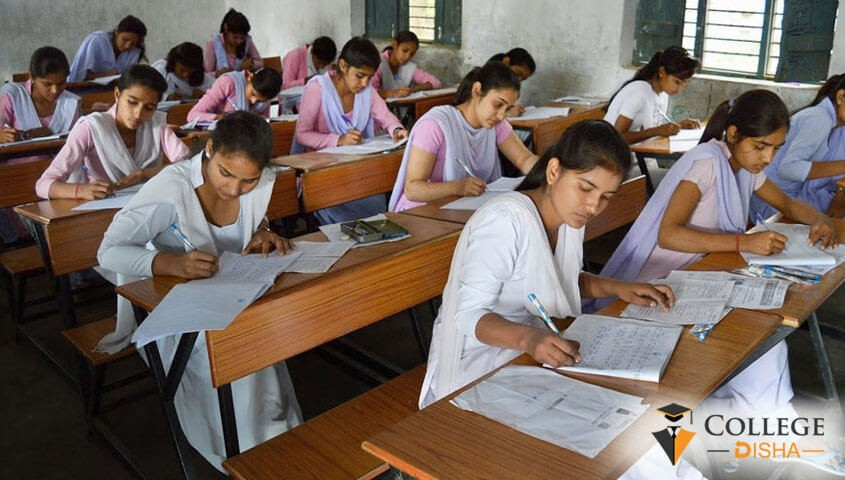student: (460, 127, 677, 389), (118, 106, 320, 334), (681, 102, 837, 281), (403, 62, 537, 215), (49, 71, 183, 191), (589, 48, 708, 151), (300, 35, 395, 145), (175, 61, 288, 132), (75, 11, 176, 82), (200, 8, 276, 76)
